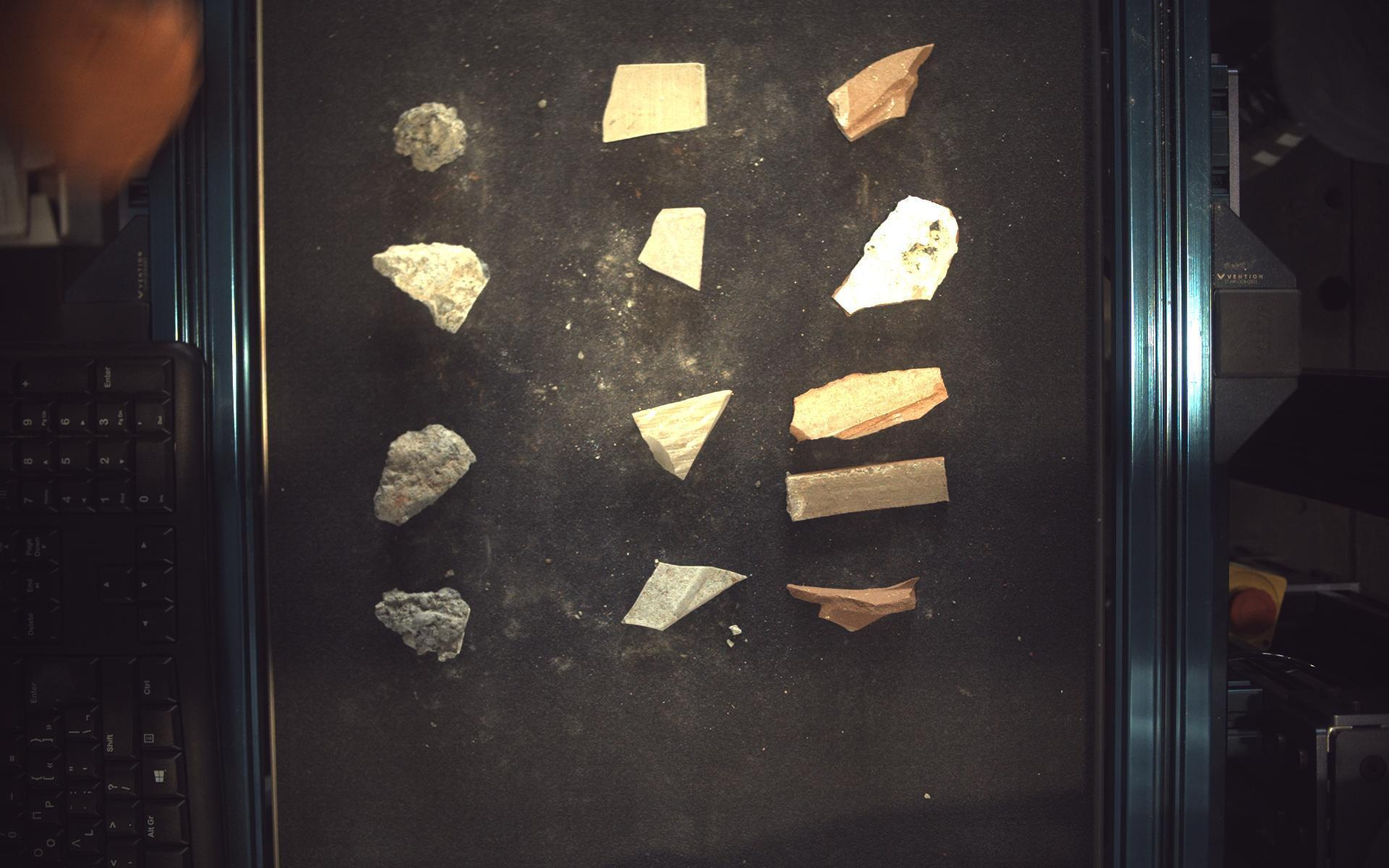brick: (833, 195, 960, 314), (791, 367, 950, 441), (787, 457, 951, 522), (829, 43, 936, 140), (789, 578, 920, 633)
concrete: (373, 242, 490, 333), (374, 425, 476, 526), (375, 588, 470, 663), (394, 101, 467, 171)
tile: (633, 390, 734, 480), (624, 562, 748, 631), (603, 61, 708, 141), (640, 206, 707, 289)
